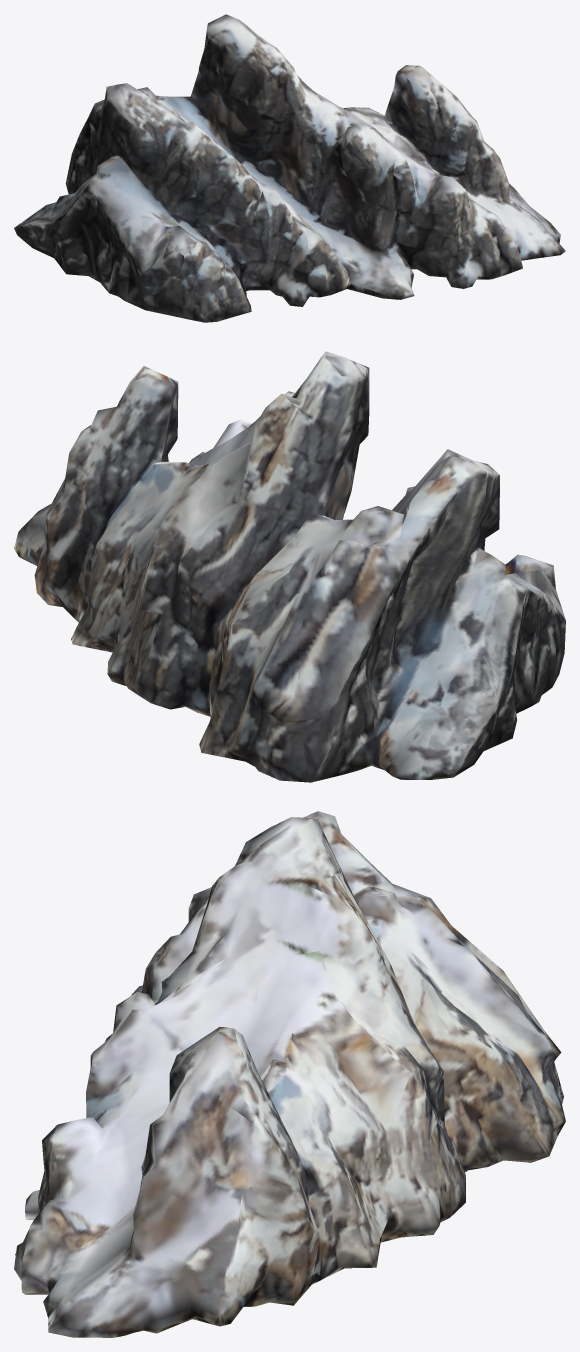
File: ThirdRoom_RockRidge.fbx
3 views of the same model, one above another, from view 1: azimuth 30°, elevation 25°; view 2: azimuth 150°, elevation 25°; view 3: azimuth 270°, elevation 25° (orthographic). The views are drawn at different scales.
Visible parts, largest first — view 1: ThirdRoom_RockRidge_Mesh; view 2: ThirdRoom_RockRidge_Mesh; view 3: ThirdRoom_RockRidge_Mesh.
Boxes of the visible parts, x1,y1,x2,y2 form: ThirdRoom_RockRidge_Mesh: (14,14,565,322); ThirdRoom_RockRidge_Mesh: (14,351,565,782); ThirdRoom_RockRidge_Mesh: (14,811,565,1337).
Bounding box in the file's own units: 6 × 3.27 × 4.75.
1 material, 1 textured.
